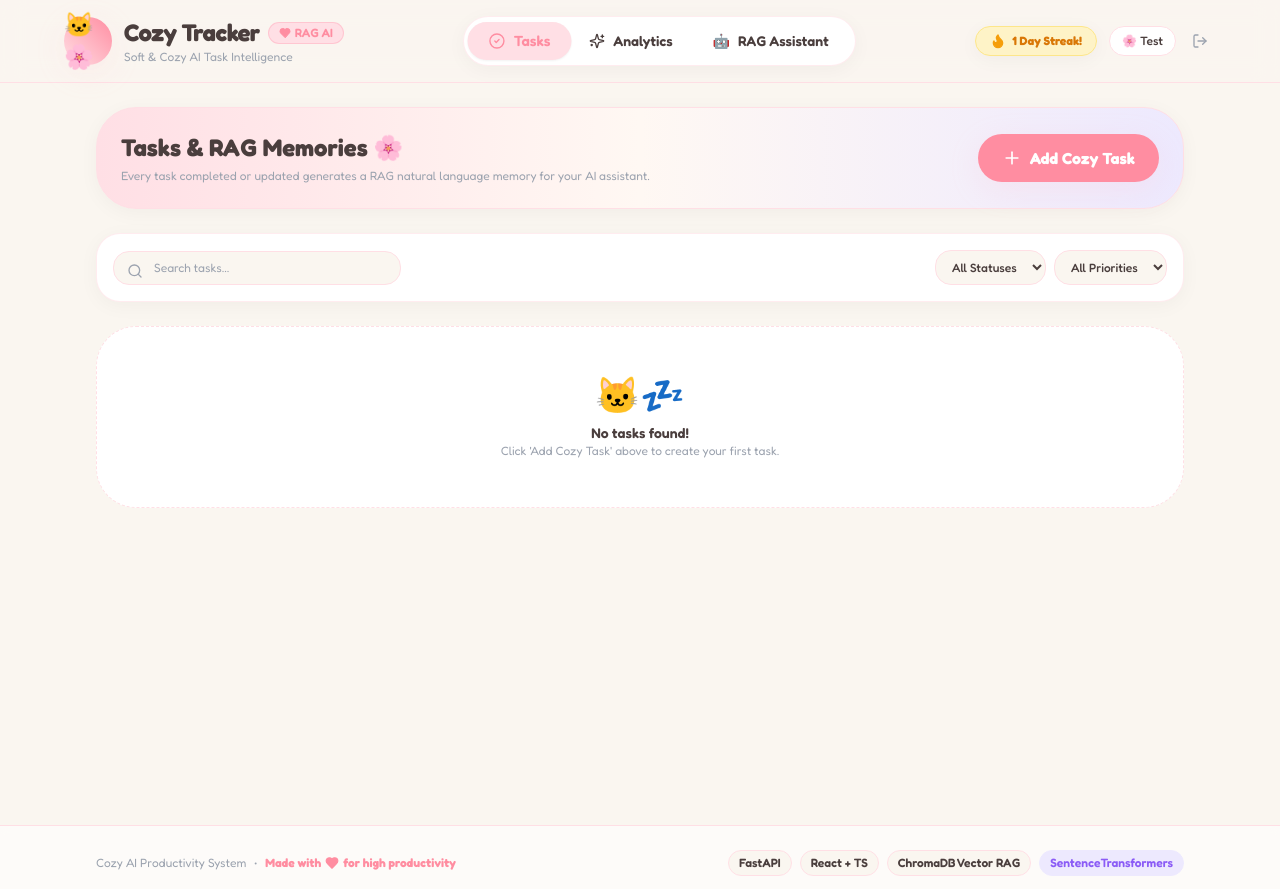
Test: App › switches between tabs when authenticated
Check: the text "🌸 Test" is shown, box [1109,26,1176,56]
Click the button "Analytics": (631, 41) [569,23,693,59]
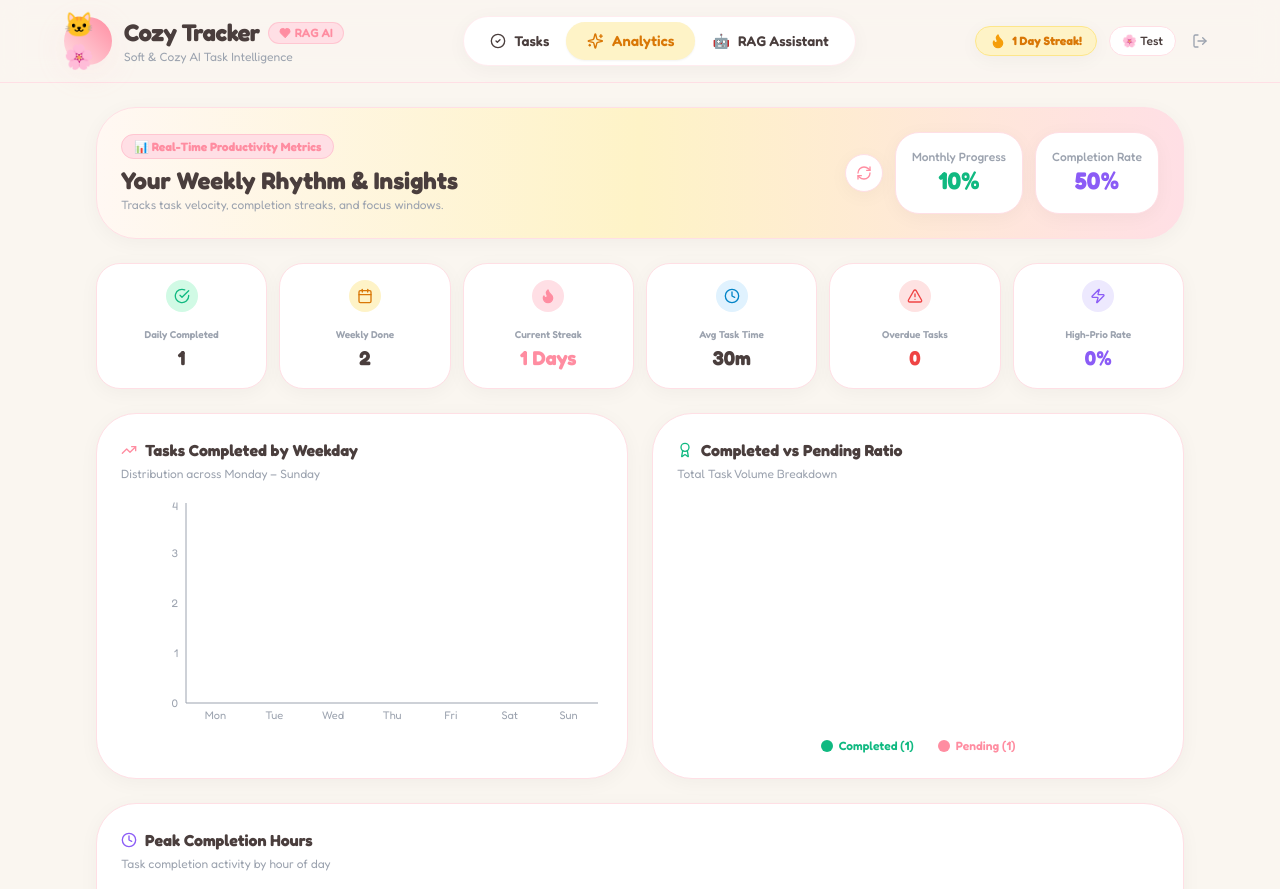
Check: the heading "Your Weekly Rhythm & Insights" is shown, box [121,165,458,197]
Click the button "🤖 RAG Assistant": (771, 41) [693,23,849,59]
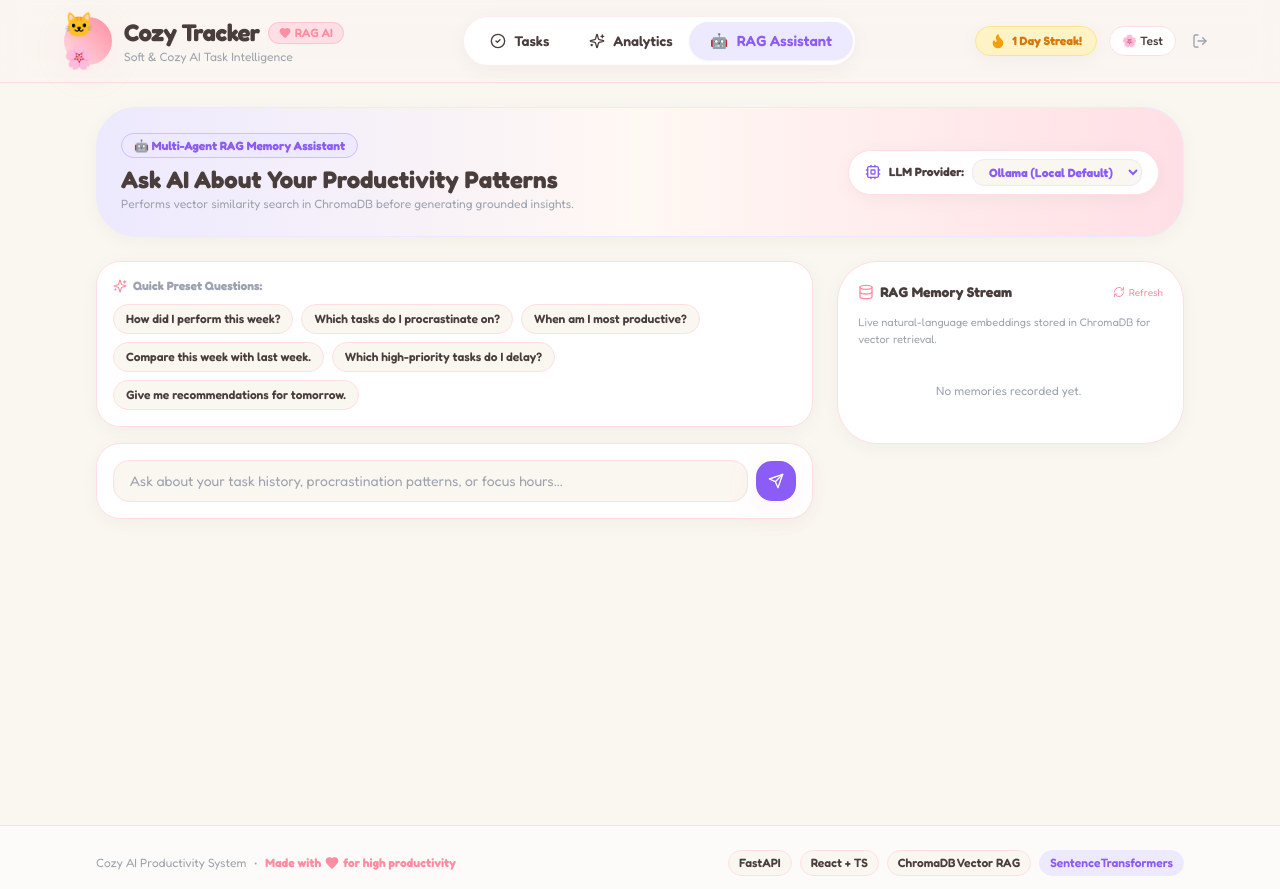
Check: the heading "Ask AI About Your Productivity Patterns" is shown, box [121,164,574,196]
